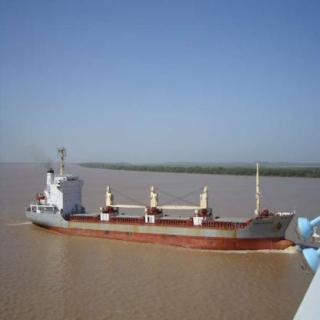Bulk Carrier: (15, 158, 318, 247)
